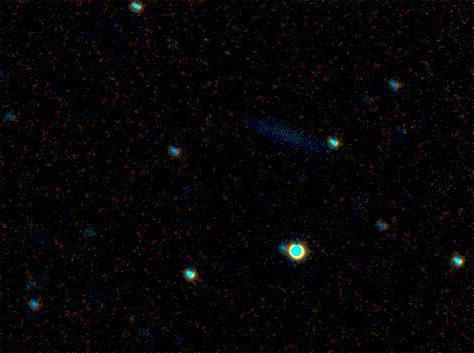star: (193, 24, 223, 54)
